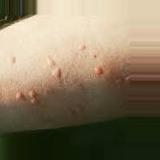Ants: (46, 54, 63, 81), (27, 89, 38, 105), (78, 44, 88, 55), (14, 93, 25, 101), (94, 67, 102, 77), (12, 56, 15, 63)
